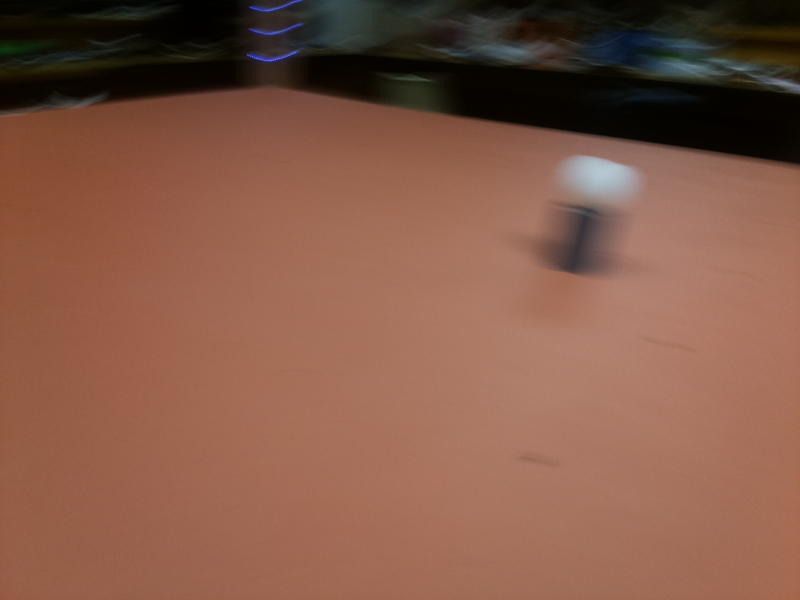corner: (242, 1, 299, 91)
obstacle: (529, 155, 639, 279)
